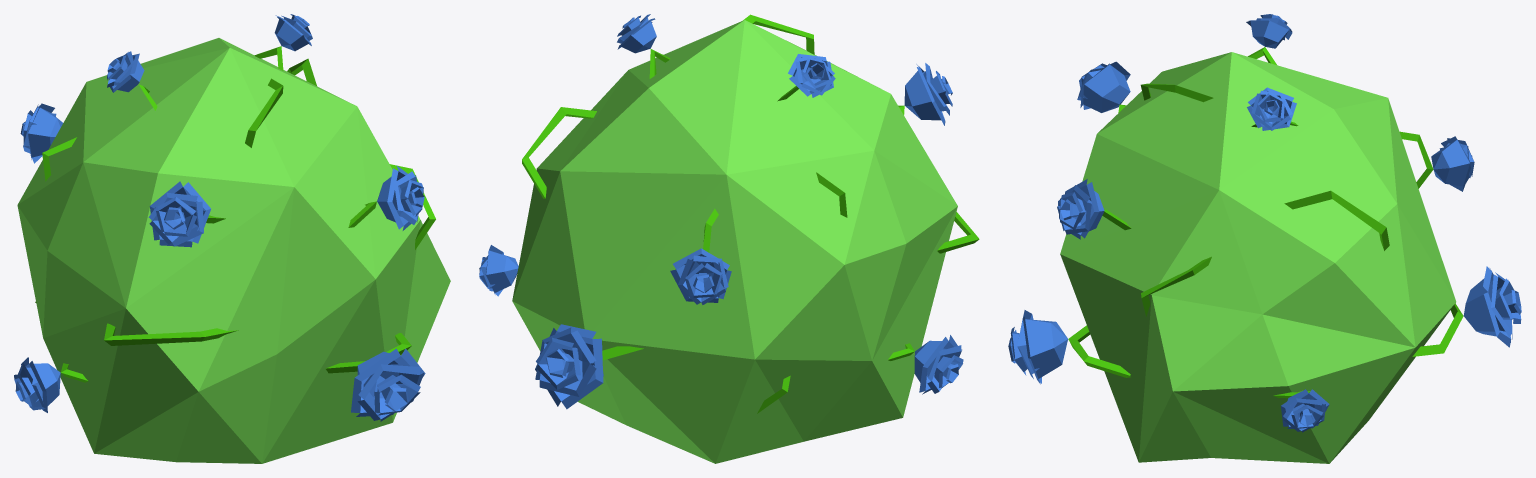
The model's file is Arbusto01.fbx.
3 views of the same model, side by side, from view 1: azimuth 30°, elevation 25°; view 2: azimuth 150°, elevation 25°; view 3: azimuth 270°, elevation 25° (orthographic). The views are drawn at different scales.
Visible parts, largest first — view 1: Cylinder.044; view 2: Cylinder.044; view 3: Cylinder.044.
Part boxes in pixels (box(x1,y1,x2,y2)): Cylinder.044: box(14, 14, 450, 463); Cylinder.044: box(479, 14, 979, 463); Cylinder.044: box(1008, 14, 1521, 463).
Size of the model in its own units: 149 by 121 by 158.
